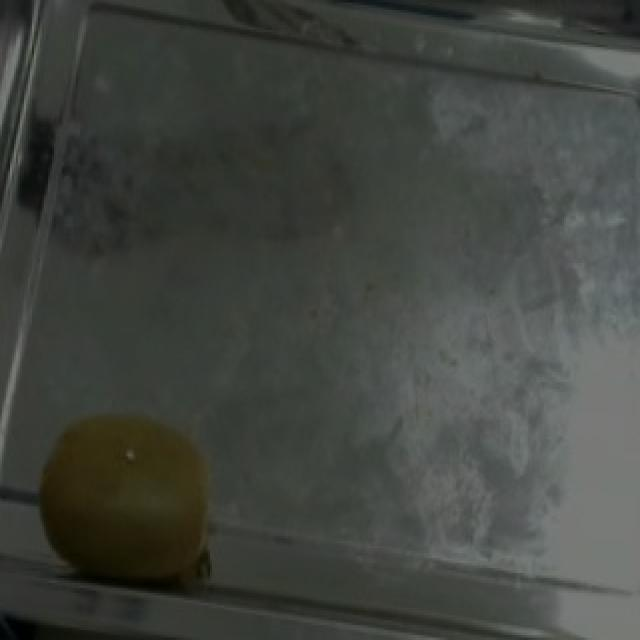Fruit: (8, 382, 252, 638)
